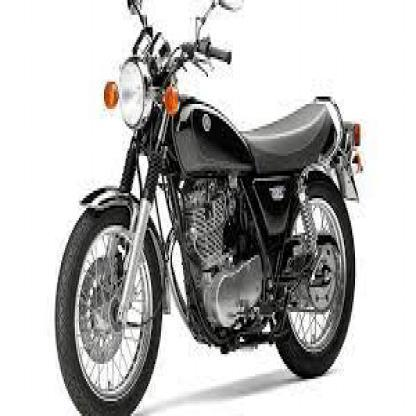Motorcycle: (45, 2, 367, 415)
